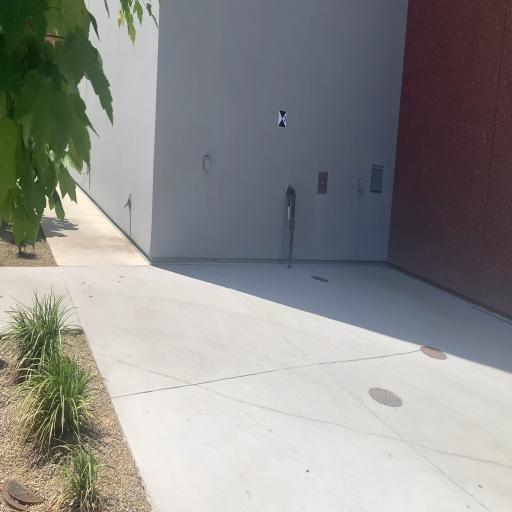target3: (277, 109, 287, 128)
